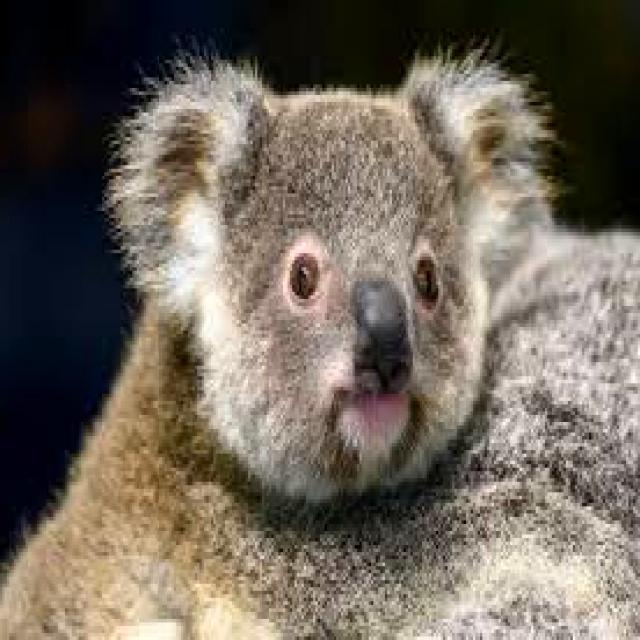koala: (2, 49, 640, 636)
